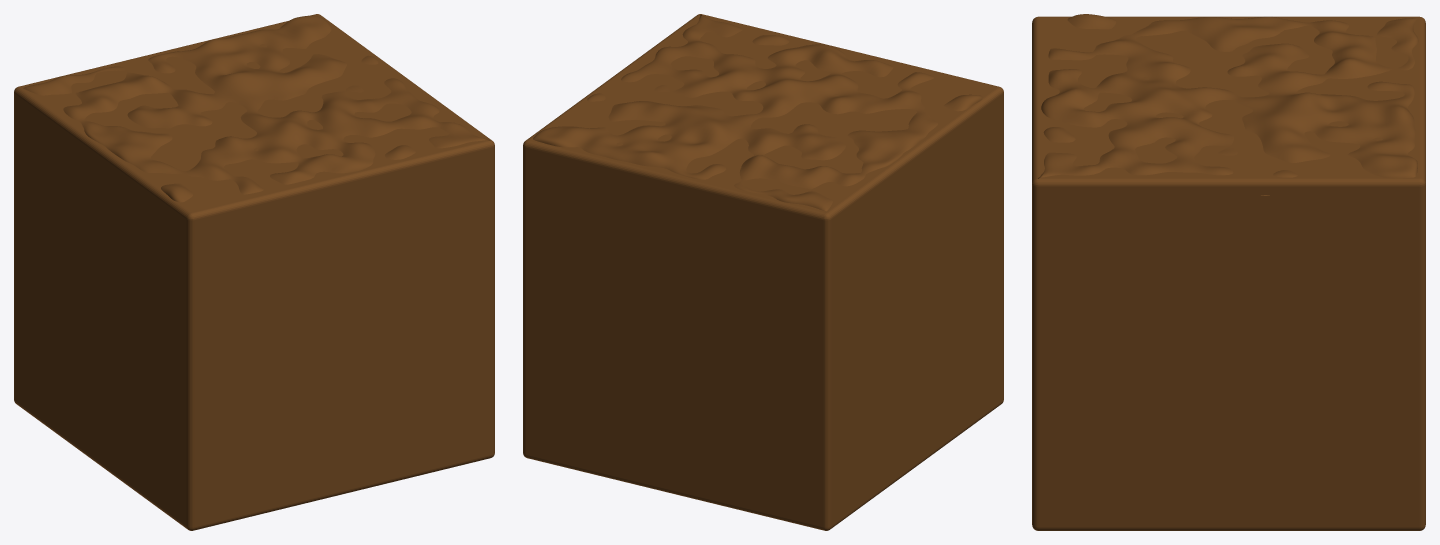
The model's file is Mud1.0.fbx.
3 renders of one model, left to right at view 1: azimuth 30°, elevation 25°; view 2: azimuth 150°, elevation 25°; view 3: azimuth 270°, elevation 25°, orthographic. The views are drawn at different scales.
Visible parts, largest first — view 1: Mud, Plane.002; view 2: Mud, Plane.002; view 3: Mud, Plane.002.
Boxes of the visible parts, bbox=[...] form: Mud: bbox=[14, 14, 494, 530]; Plane.002: bbox=[23, 15, 490, 202]; Mud: bbox=[523, 14, 1003, 530]; Plane.002: bbox=[533, 14, 982, 211]; Mud: bbox=[1032, 16, 1425, 530]; Plane.002: bbox=[1038, 14, 1418, 195].
Size of the model in its own units: 1001 by 1019 by 1000.
